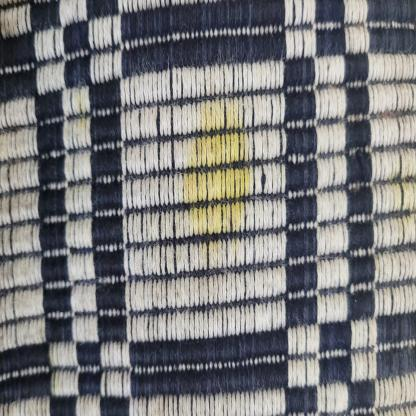spot: (176, 76, 250, 258), (391, 100, 416, 267), (66, 77, 95, 141)
